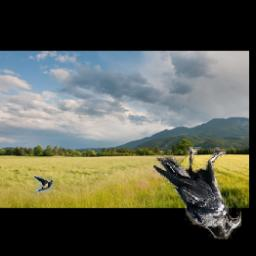Crow: (153, 143, 241, 240)
Swallow: (33, 177, 52, 194)
